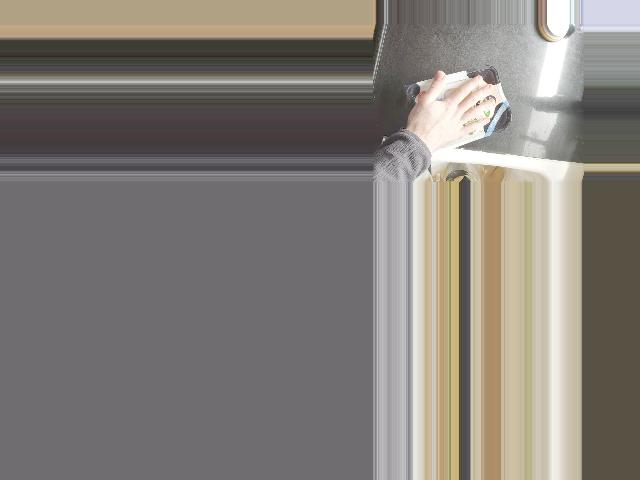cheese: (404, 63, 513, 158)
